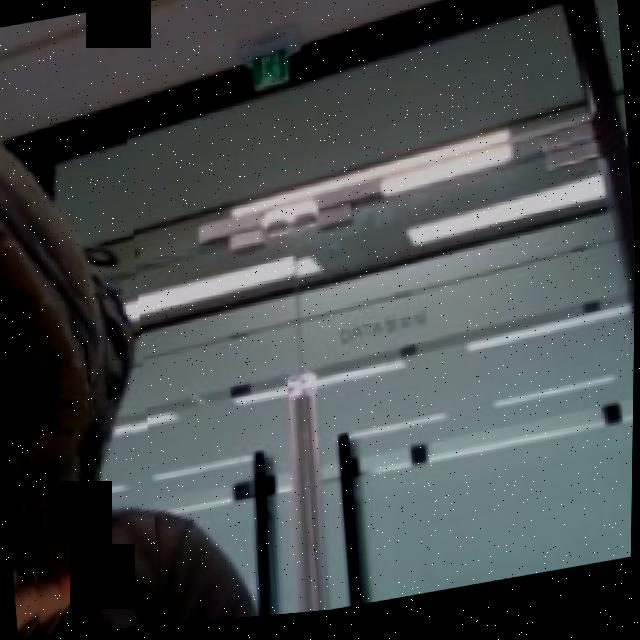shoe: (0, 119, 169, 640)
